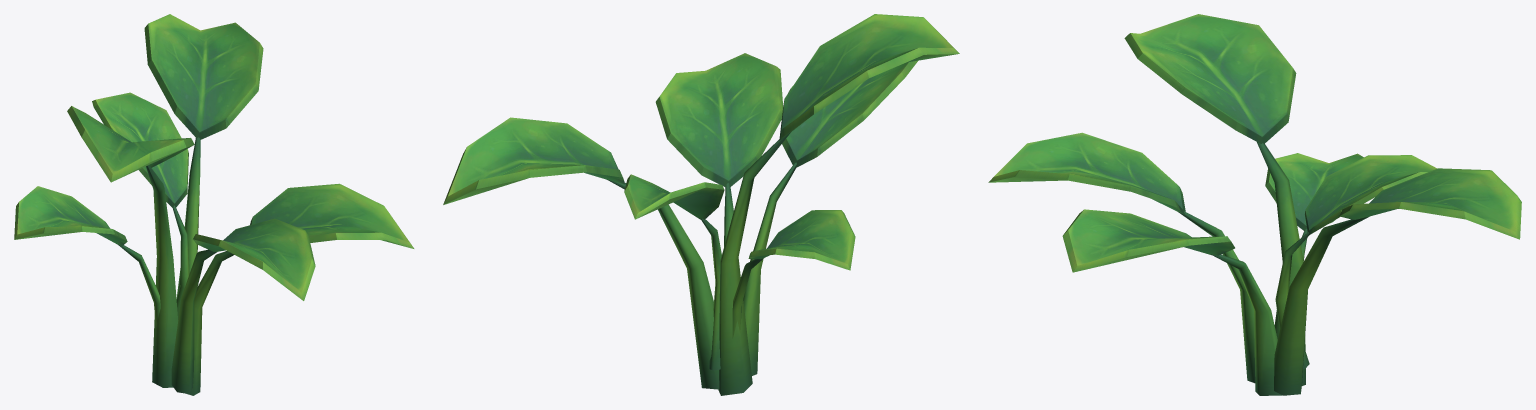
The model's file is plant_2.fbx.
The picture shows the model from 3 angles, left to right: view 1: azimuth 30°, elevation 25°; view 2: azimuth 150°, elevation 25°; view 3: azimuth 270°, elevation 25°; orthographic projection. The views are drawn at different scales.
Visible parts, largest first — view 1: plant1; view 2: plant1; view 3: plant1.
Part boxes in pixels (x1,y1,x2,y2): plant1: (14,14,414,395); plant1: (443,14,959,395); plant1: (988,14,1521,395).
Bounding box in the file's own units: 64.69 × 66.97 × 104.
1 material, 1 textured.
